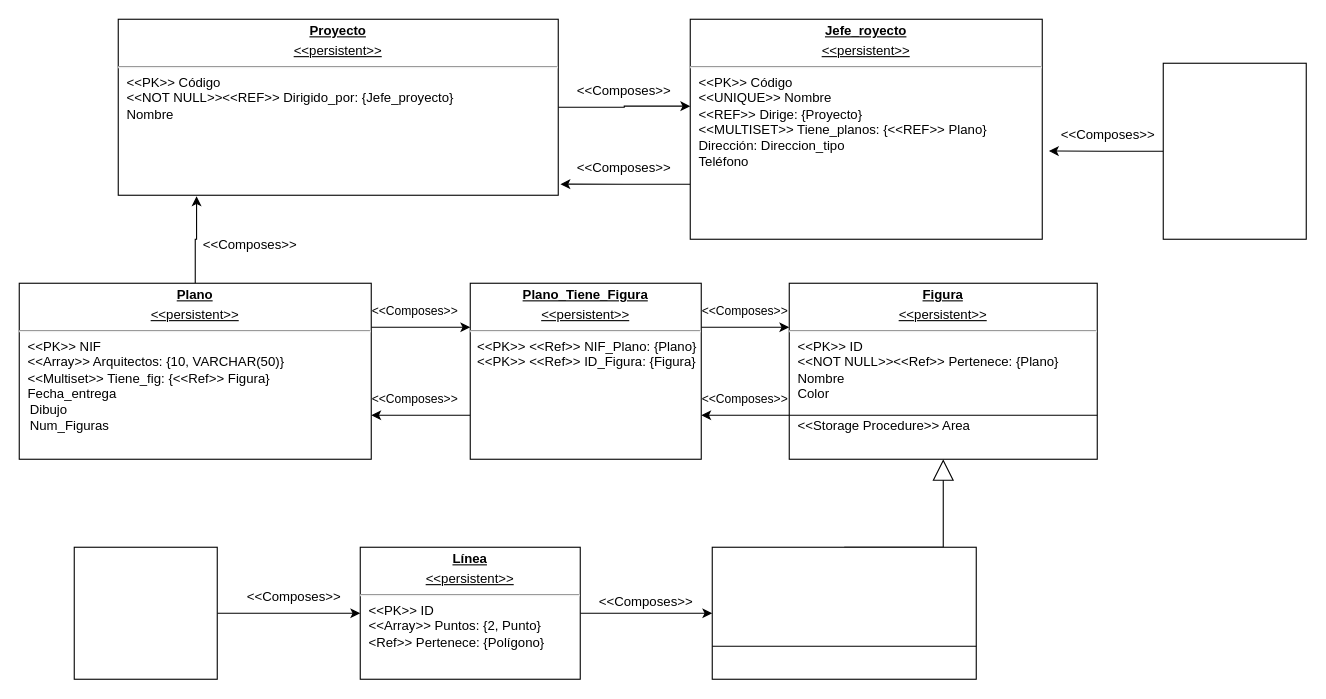
Some shapes in this 1326 by 699 pixel diagram are drawn without their labels. Here are the shapes that lost their labels. From the top down, the centre of each, then its label:
At pixel 1234 150: "Dirección <<udt>> Tipo_Via Nombre_Via Número Poblacion Código_Postal Provincia".
At pixel 145 612: "Punto <<udt>> Coord_X Coord_Y".
At pixel 843 612: "Polígono <<persistent>> Num_lineas <<Storage Procedure>> Perímetro".
